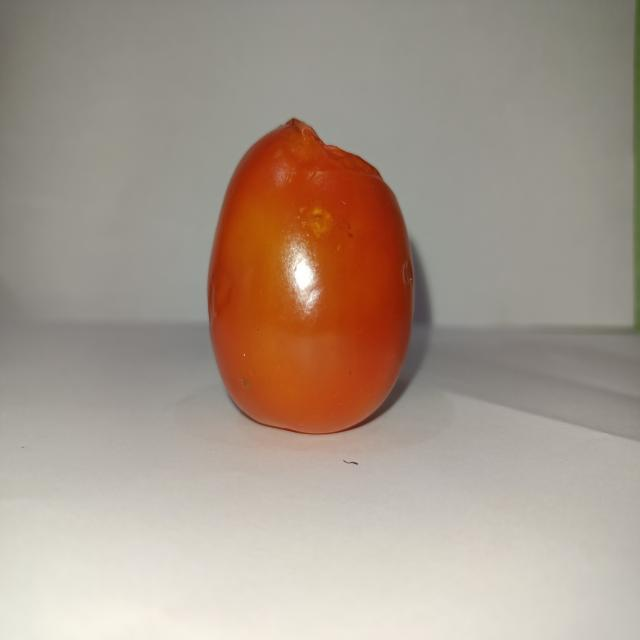Red: (205, 116, 415, 435)
